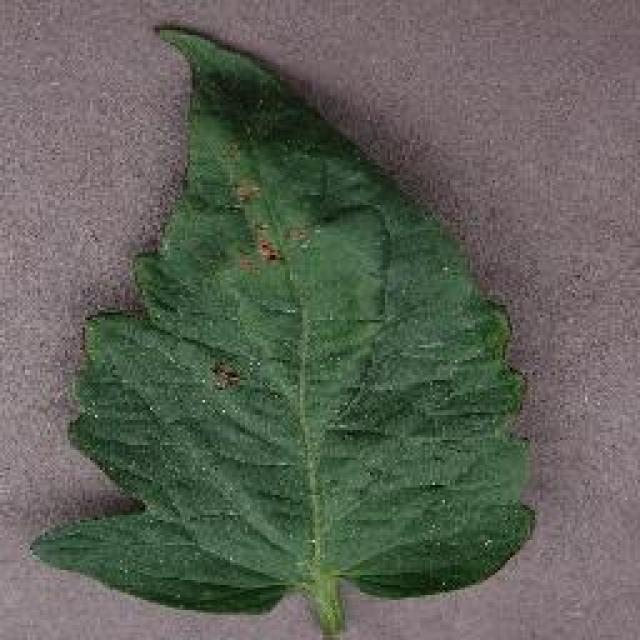Tomato___Bacterial_spot: (17, 21, 541, 638)
